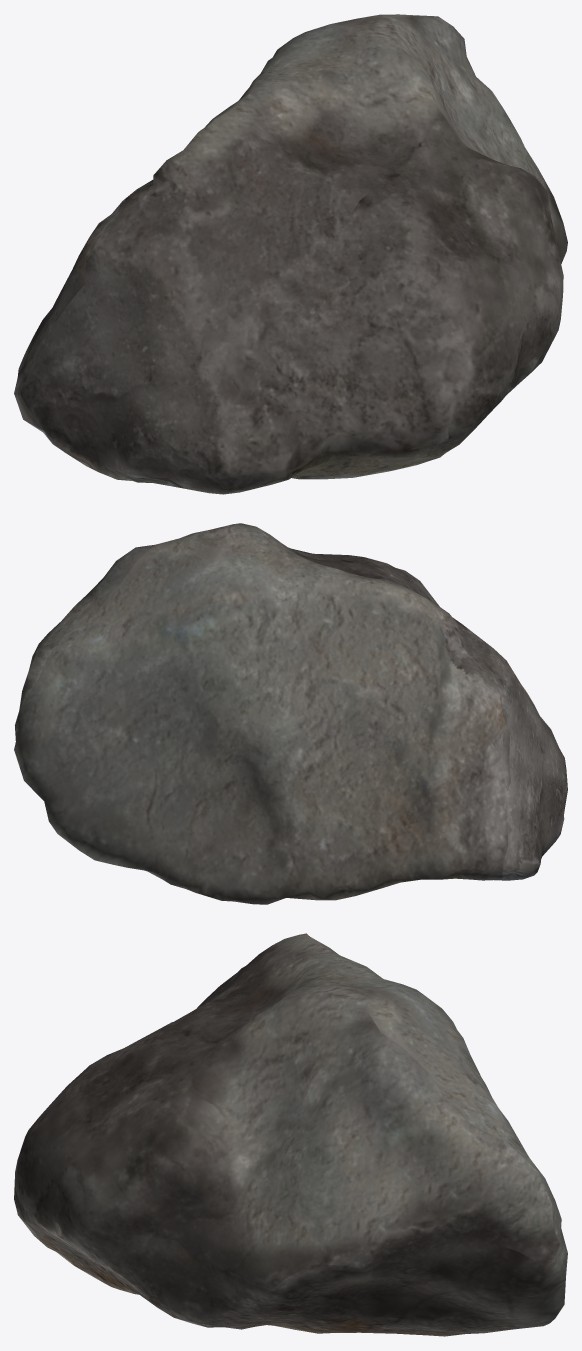
Rendered from [uhq] rock8.fbx.
3 views of the same model, one above another, from view 1: azimuth 30°, elevation 25°; view 2: azimuth 150°, elevation 25°; view 3: azimuth 270°, elevation 25° (orthographic). The views are drawn at different scales.
Visible parts, largest first — view 1: rock8_LOD0; view 2: rock8_LOD0; view 3: rock8_LOD0.
Boxes of the visible parts, x1,y1,x2,y2 form: rock8_LOD0: [14, 14, 567, 494]; rock8_LOD0: [14, 523, 567, 904]; rock8_LOD0: [14, 933, 567, 1336].
Size of what is drawn, in the model's own units: 1.5 by 0.9702 by 1.39.
